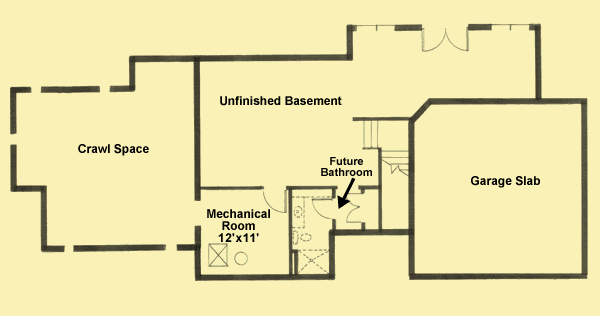door: (418, 27, 470, 54), (258, 186, 288, 216), (308, 198, 333, 221)
large_sink: (291, 228, 314, 246)
small_sink: (289, 195, 305, 227)
stairs: (359, 116, 411, 179)
window: (486, 20, 530, 35), (355, 20, 396, 34)
